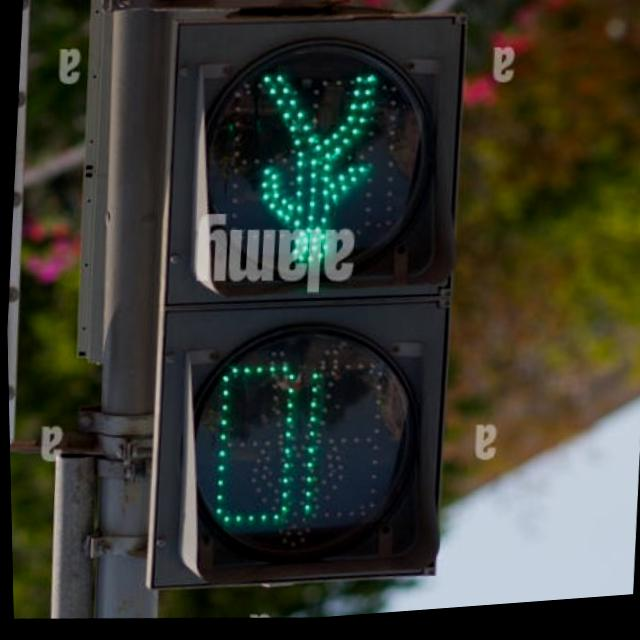green_light: (230, 40, 403, 280)
